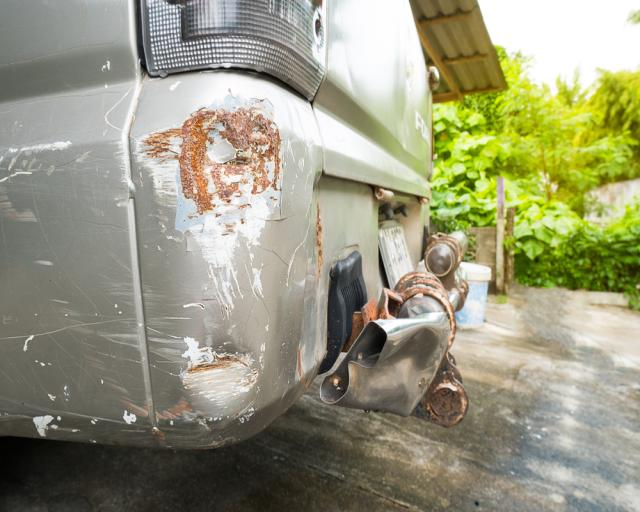dent: (183, 342, 251, 408)
scratch: (0, 134, 157, 448), (137, 89, 288, 373), (158, 394, 231, 451)
